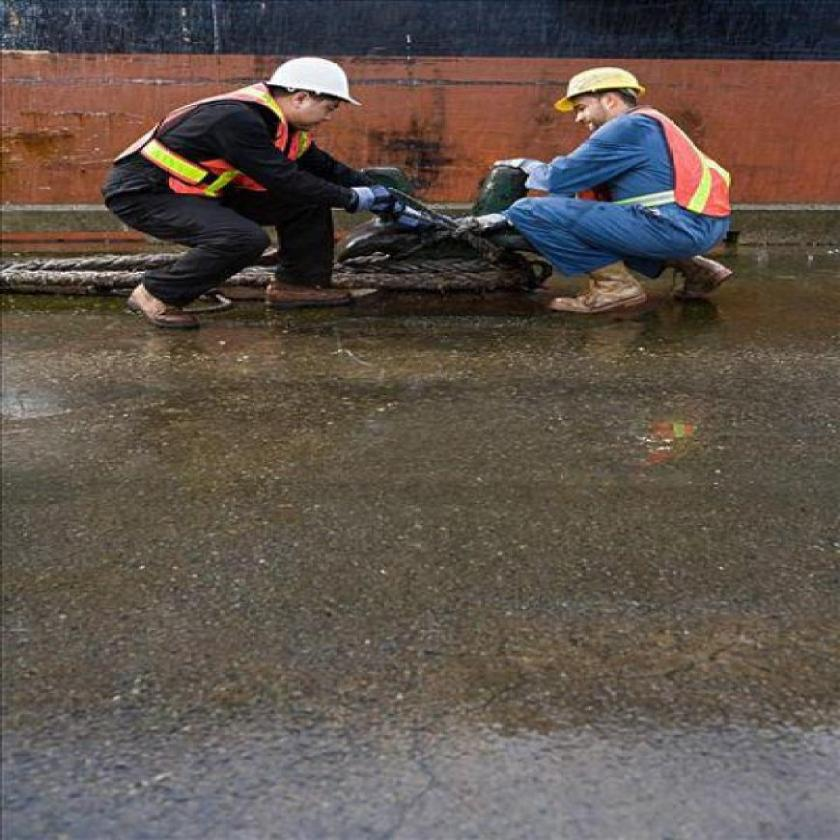Con_casco: (267, 57, 364, 146), (554, 63, 645, 140)
